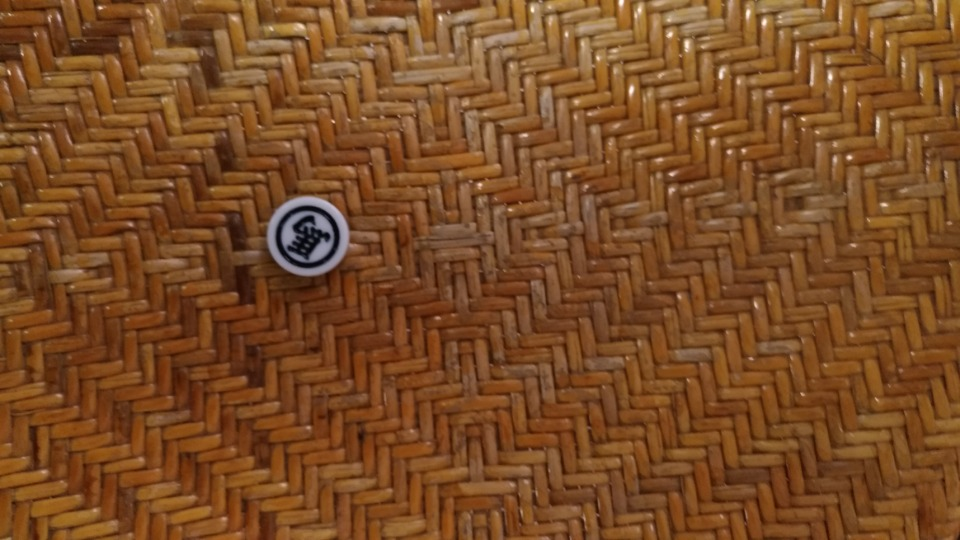b-knight: (256, 191, 369, 295)
